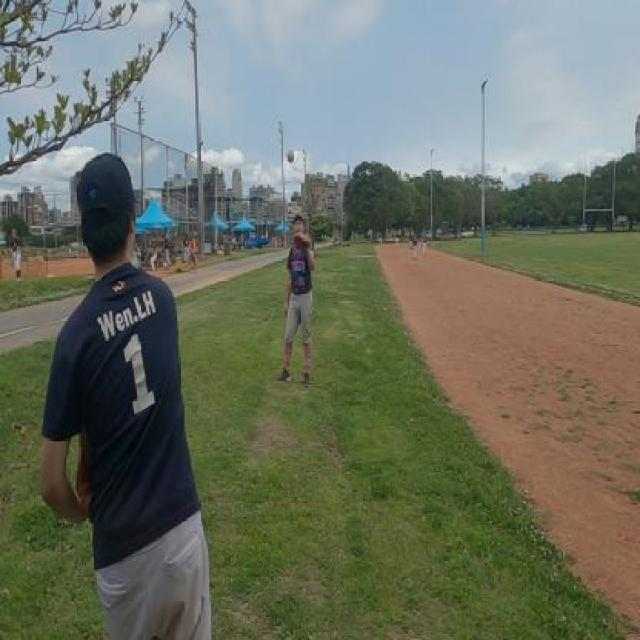baseball: (287, 149, 295, 163)
